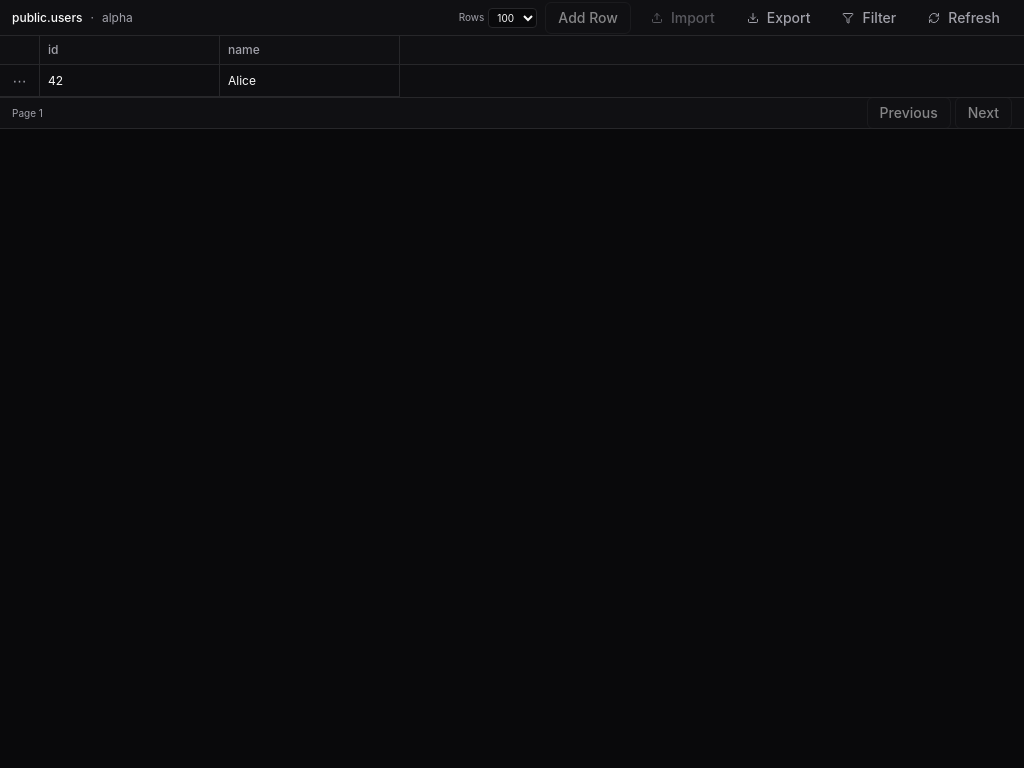
Test: TableDataView delete row › keeps the dialog open on ROW_CONFLICT and does not refetch
Expected: the table named "Table data grid" is shown, [0,36,1023,97]
Step 1. Press ArrowDown in the button "⋯", box [6,74,32,88]
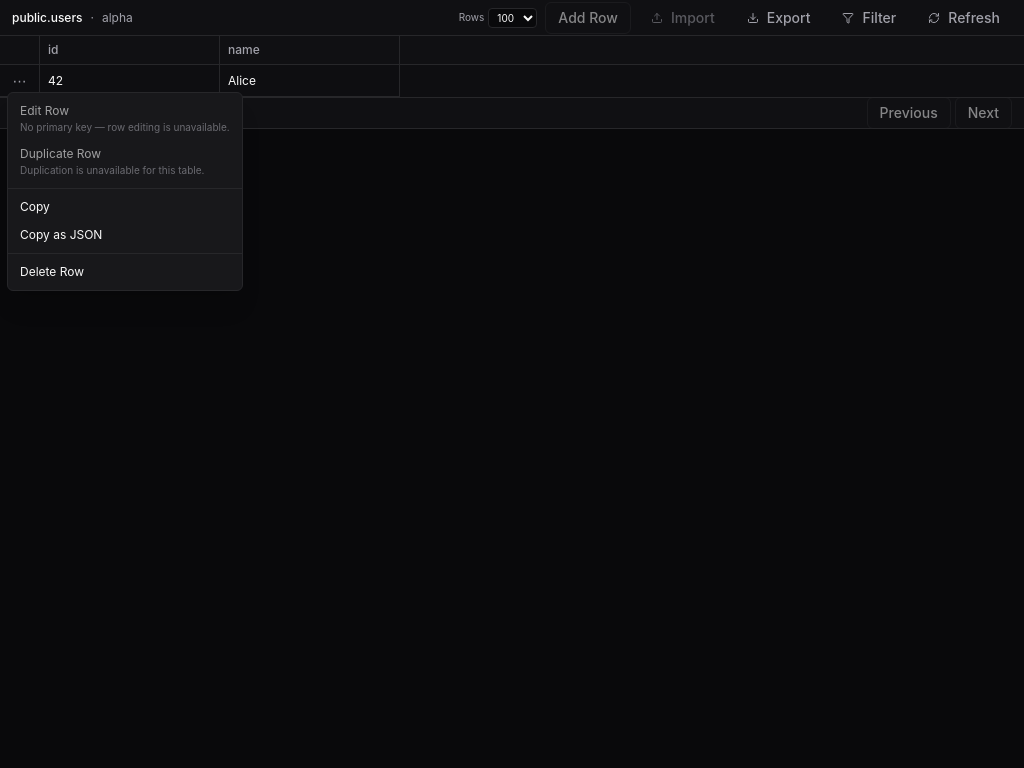
Step 2. Click the menu item "Delete Row" → click(52, 271), box [20,264,84,279]
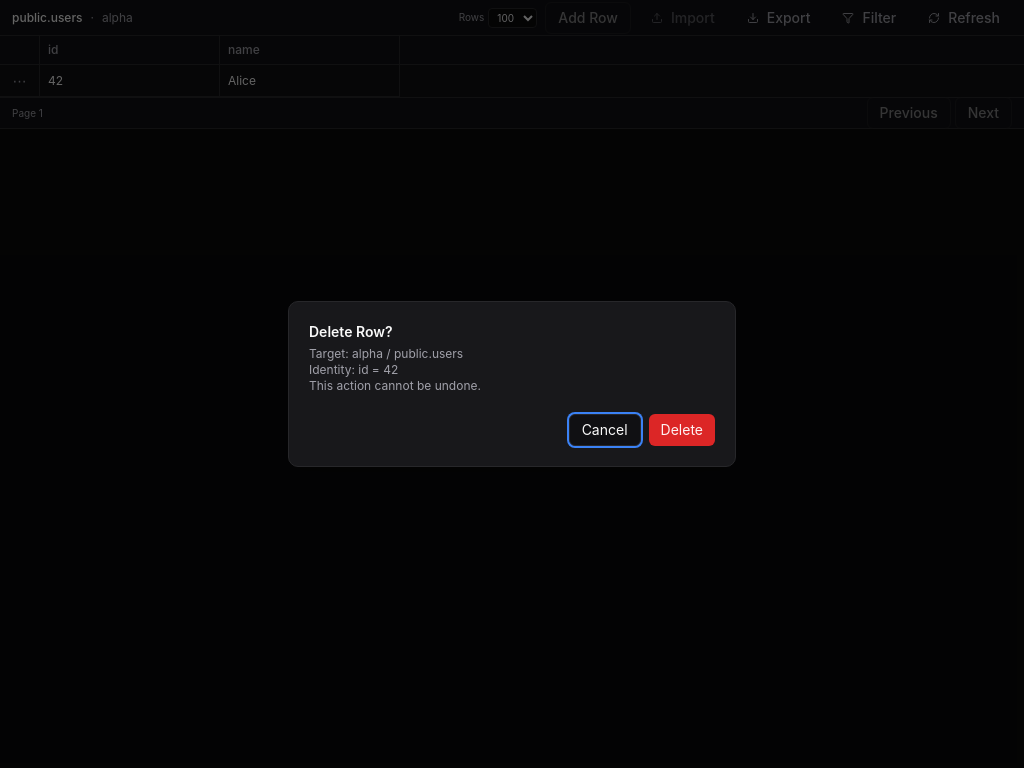
Step 3. Click the button "Delete" → click(682, 430), box [649,414,715,446]
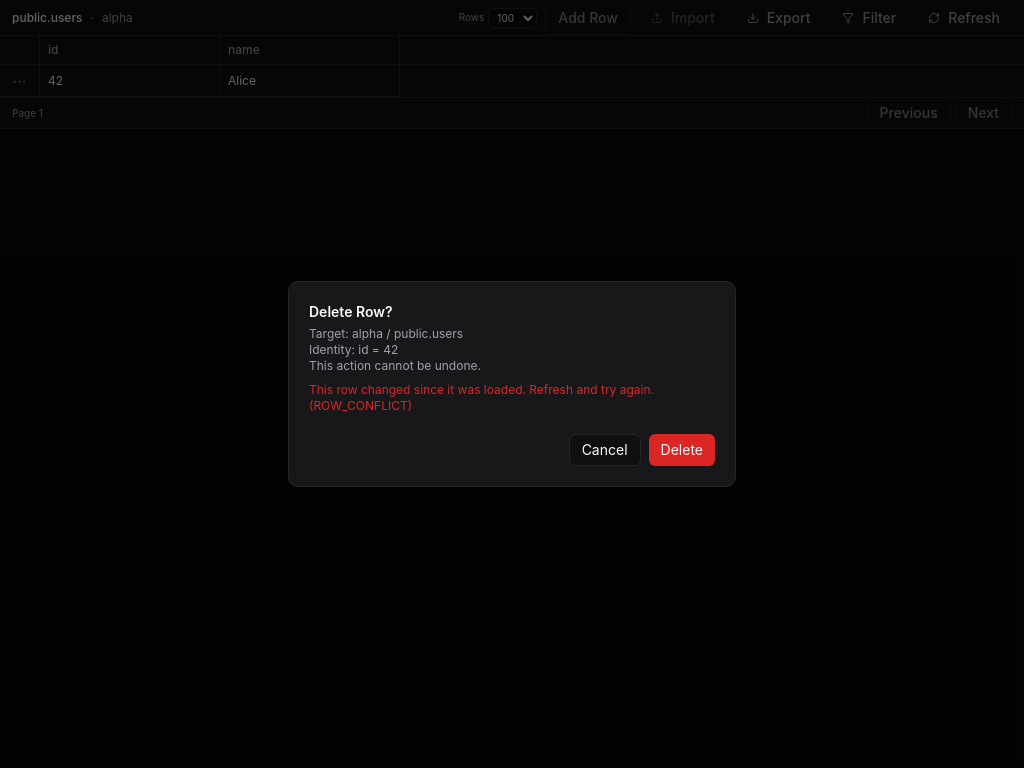
Result: the dialog with test id "delete-row-dialog" is shown at [288,281,736,487]
Result: the message shows "ROW_CONFLICT" at [309,382,654,413]
